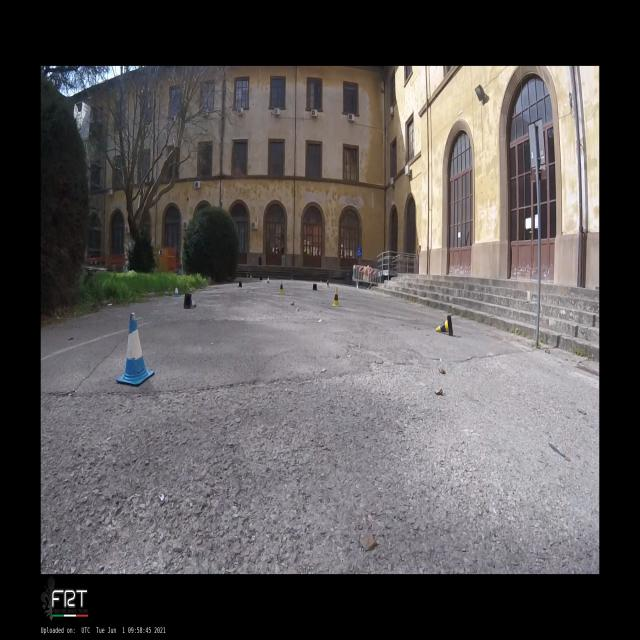blue_cone: (116, 312, 155, 388), (174, 285, 180, 298), (266, 276, 270, 284)
unknown_cone: (183, 294, 197, 309), (312, 284, 318, 291), (237, 282, 242, 288)
yellow_cone: (436, 315, 453, 336), (332, 288, 341, 307), (278, 281, 285, 295), (326, 280, 329, 288)
